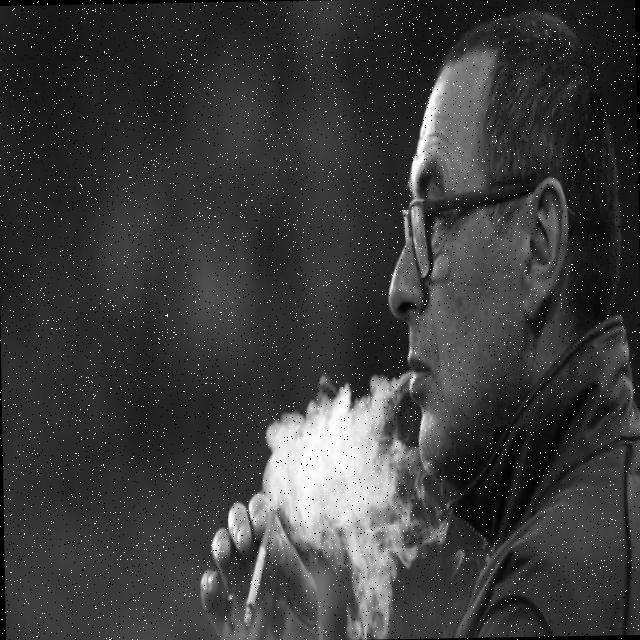cigarette: (236, 506, 282, 630)
